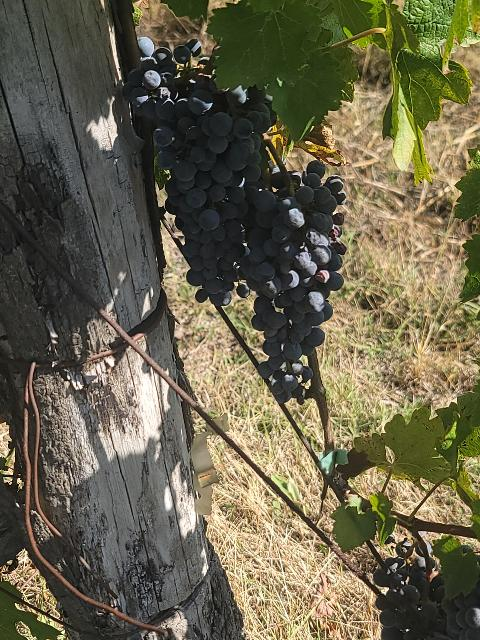grapes: (122, 38, 275, 305), (240, 160, 346, 404), (374, 539, 480, 640)
